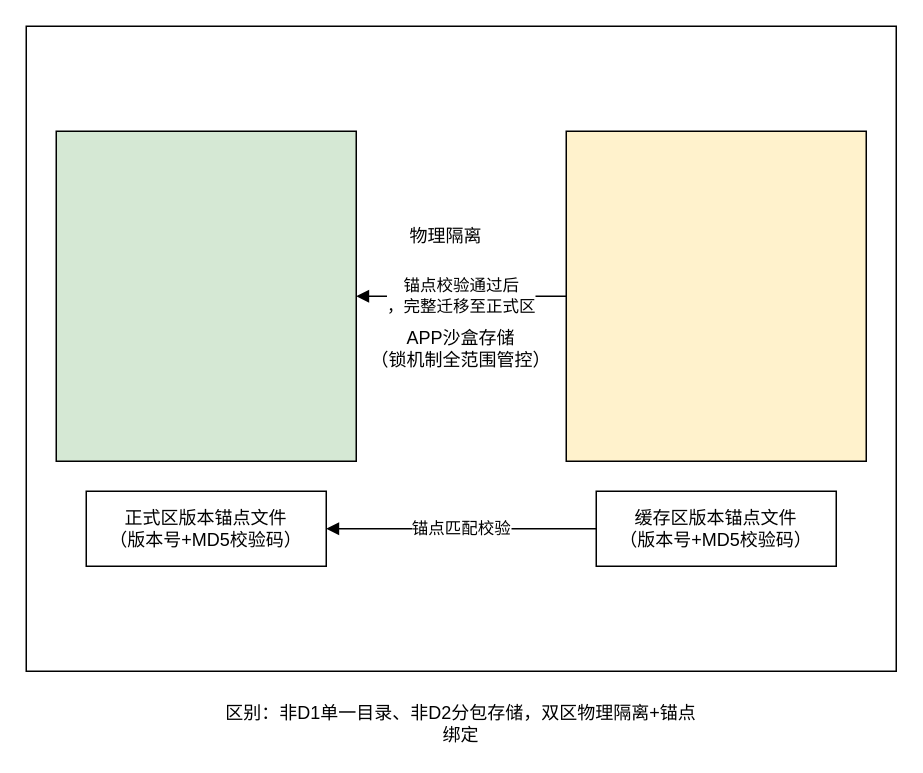
The diagram is 923 pixels wide and 773 high, and some of its shapes have lost their labels. The centre of each missing label's shape, as x and y in pixels:
【临时缓存区】 • 存储待替换新版本资源 • 绑定独立版本锚点文件 • 校验通过后才允许迁移 • 异常时自动清理销毁: point (715, 295)
【正式运行区】 • 存储当前稳定版本资源 • 绑定版本锚点文件 • 受读锁/写锁互斥保护 • 微应用运行唯一读取源: point (205, 295)
